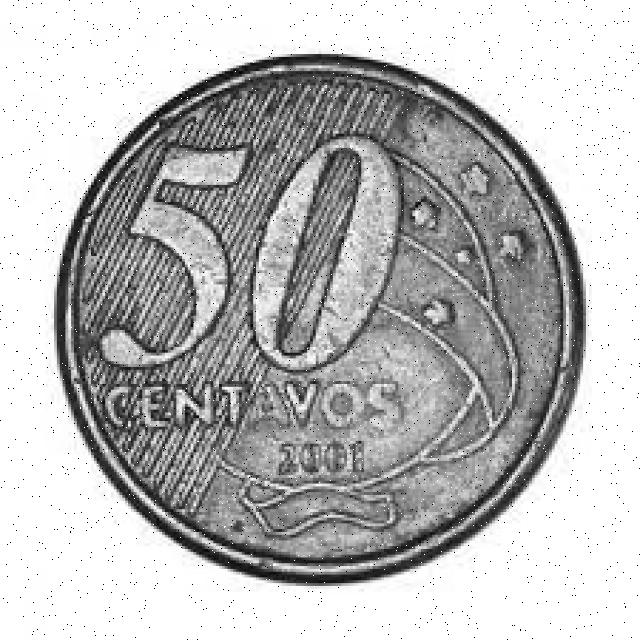50 cent: (61, 53, 582, 587)
